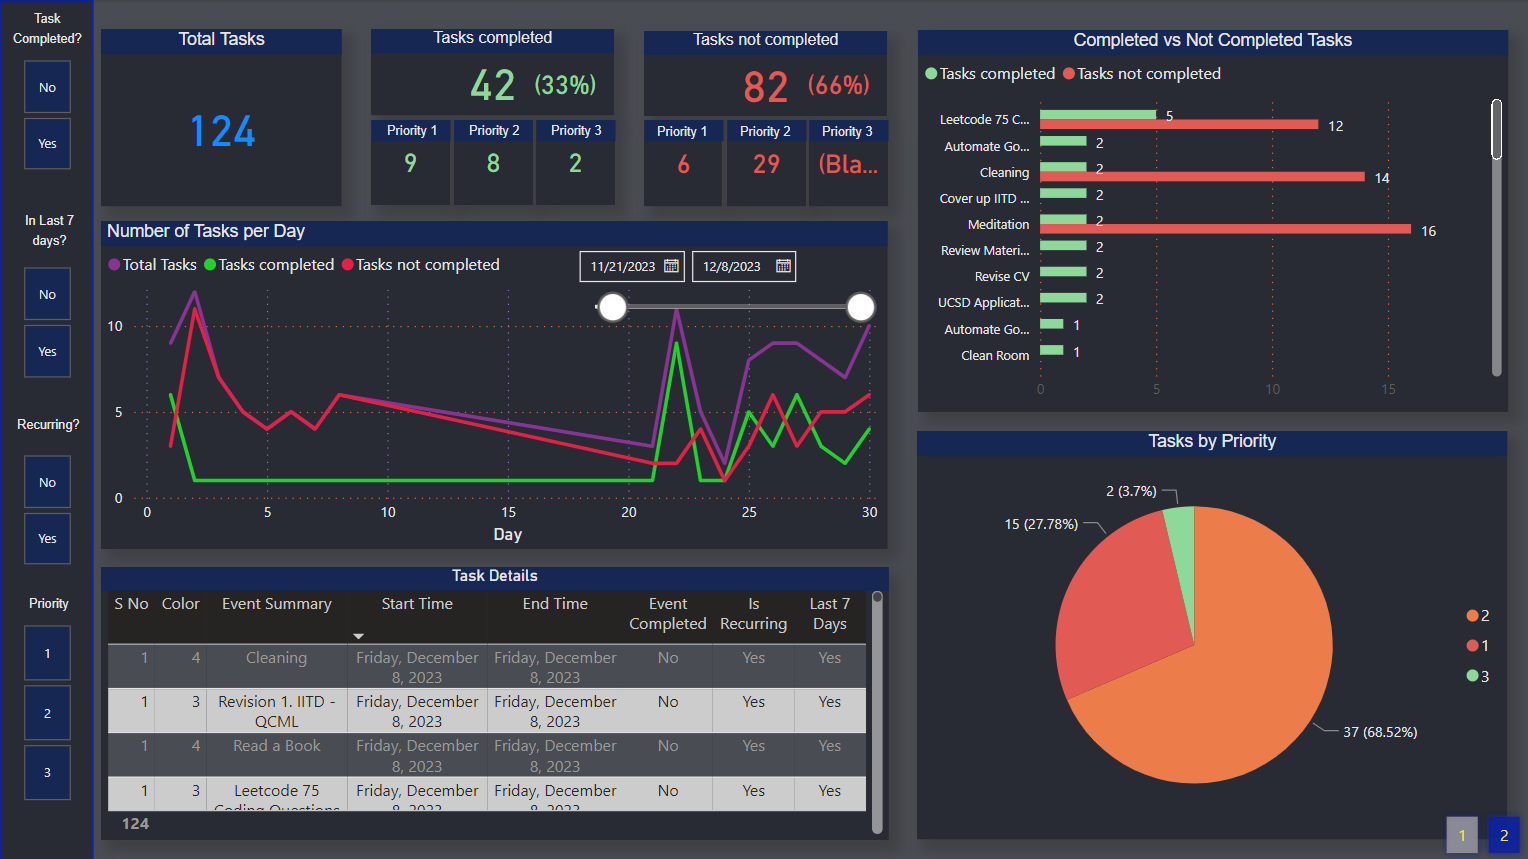

What the dashboard file says about the page in this screenshot:
{"tool":"powerbi","page":{"name":"v1-Tracker","canvas":[1280,720],"ordinal":0},"visuals":[{"type":"shape","box":[183.6,25.5,83.6,145.5],"z":0},{"type":"card","title":"Tasks completed","fields":{"Values":["CountNonNull(events.Event ID)"]},"box":[179.1,113.6,55.5,61.8],"z":1000},{"type":"shape","box":[87.4,25.5,83.6,145.5],"z":2000},{"type":"card","title":"Total Tasks","fields":{"Values":["CountNonNull(events.Event ID)"]},"box":[92.8,119.1,78.2,41.8],"z":3000},{"type":"card","title":"Tasks not completed","fields":{"Values":["CountNonNull(events.Event ID)"]},"box":[456.4,25.5,133.9,71.4],"z":4000},{"type":"card","fields":{"Values":["events.Events Completed (%)"]},"box":[214.5,122.7,60,54.5],"z":5000},{"type":"lineChart","title":"Number of Tasks per Day","fields":{"Category":["events.Date.Variation.Date Hierarchy.Day"],"Y":["CountNonNull(events.Event ID)","events.Count of Event Completed","events.Count of Event Not Completed"]},"box":[85.6,184.4,656.7,274.4],"z":6000},{"type":"clusteredBarChart","title":"Completed vs Not Completed Tasks","fields":{"Category":["events.Event Summary"],"Y":["events.Count of Event Completed","events.Count of Event Not Completed"]},"box":[767.5,25,492.5,318.8],"z":7000},{"type":"pieChart","title":"Tasks by Priority","fields":{"Y":["CountNonNull(events.Event ID)"],"Category":["events.Priority"]},"box":[767.1,359.8,493,341.4],"z":8000},{"type":"shape","box":[0,0,78.9,720],"z":9000},{"type":"slicer","title":"Recurring","fields":{"Values":["events.Is Recurring"]},"box":[0,378.8,78.8,95.3],"z":10000},{"type":"slicer","title":"Recurring","fields":{"Values":["events.Event Completed"]},"box":[0,48.8,78.8,95.3],"z":11000},{"type":"textbox","box":[10,338.8,71.2,28.8],"z":12000},{"type":"textbox","box":[1,0.1,78.8,57.4],"z":13000},{"type":"slicer","title":"Recurring","fields":{"Values":["events.Priority"]},"box":[0,520,78.8,150],"z":14000},{"type":"textbox","box":[20,488.8,61.2,31.2],"z":15000},{"type":"slicer","title":"Recurring","fields":{"Values":["events.Last 7 Days"]},"box":[0,221.2,78.8,96.2],"z":16000},{"type":"textbox","box":[6.2,168.8,72.5,56.2],"z":17000},{"type":"card","title":"Tasks not completed","fields":{"Values":["CountNonNull(events.Event ID)"]},"box":[456.4,119.1,65.5,50.9],"z":18000},{"type":"card","title":"Tasks not completed","fields":{"Values":["CountNonNull(events.Event ID)"]},"box":[525.5,119.1,65.5,50.9],"z":19000},{"type":"card","title":"Tasks not completed","fields":{"Values":["CountNonNull(events.Event ID)"]},"box":[310.9,119,65.5,50.9],"z":20000},{"type":"card","title":"Tasks not completed","fields":{"Values":["CountNonNull(events.Event ID)"]},"box":[380,119,65.5,50.9],"z":21000},{"type":"slicer","fields":{"Values":["events.Date"]},"box":[472.2,200,268.9,74.4],"z":22000},{"type":"tableEx","title":"Task Details","fields":{"Values":["events.Event ID","events.Color","events.Event Summary","events.Start Time","events.End Time Hierarchy.End Time","events.Event Completed","events.Is Recurring","events.Last 7 Days"]},"box":[85.1,473.5,657.9,227.9],"z":23000},{"type":"actionButton","box":[1239.6,677.4,35.5,39.9],"z":24000},{"type":"actionButton","box":[1204.1,677.4,35.5,39.9],"z":25000},{"type":"shape","box":[311.2,100.2,65.6,17.7],"z":26000},{"type":"shape","box":[380.4,100.2,65.6,17.7],"z":27000},{"type":"shape","box":[456.6,100.2,65.6,17.7],"z":28000},{"type":"shape","box":[525.8,100.2,65.6,17.7],"z":29000},{"type":"textbox","box":[455.5,93.9,65.6,35.5],"z":30000},{"type":"textbox","box":[312.1,93.9,65.6,35.5],"z":31000},{"type":"textbox","box":[381.3,93.9,65.6,35.5],"z":32000},{"type":"textbox","box":[524.7,93.9,65.6,35.5],"z":33000},{"type":"card","title":"Tasks Missed","fields":{"Values":["CountNonNull(events.Event ID)"]},"box":[605.5,23.6,134.5,71.8],"z":34000},{"type":"card","title":"Tasks not completed","fields":{"Values":["CountNonNull(events.Event ID)"]},"box":[605.5,119.1,65.5,50.9],"z":35000},{"type":"card","title":"Tasks not completed","fields":{"Values":["CountNonNull(events.Event ID)"]},"box":[674.5,119.1,65.5,50.9],"z":36000},{"type":"shape","box":[605.5,99.8,65.6,17.7],"z":37000},{"type":"shape","box":[674.6,99.8,65.6,17.7],"z":38000},{"type":"textbox","box":[606.4,93.5,65.6,35.5],"z":39000},{"type":"textbox","box":[675.5,93.5,65.6,35.5],"z":40000},{"type":"card","fields":{"Values":["events.Events Missed (%)"]},"box":[685.1,41,60.1,54.5],"z":41000},{"type":"card","fields":{"Values":["events.Events Not Completed (%)"]},"box":[535,45.7,60.1,54.5],"z":42000},{"type":"image","box":[91.9,54.5,79.1,74.5],"z":43000},{"type":"textbox","box":[85.5,29.1,88.2,35.5],"z":44000},{"type":"image","box":[193.6,60,63.6,60.9],"z":45000},{"type":"textbox","box":[181.8,20.9,85.5,53.6],"z":46000},{"type":"pivotTable","fields":{"Rows":["events.Priority"],"Values":["CountNonNull(events.Event ID)"],"Columns":["events.Event Completed"]},"box":[491.4,22.5,252.3,146.6],"z":46001}]}

Visuals, with their boxes in screenshot pixels (x1, y1, x2, y2), scaled from the page's 1280x720 canvas onto the 1528x859 screenshot:
shape: [219, 30, 319, 204]
"Tasks completed" card: [214, 136, 280, 209]
shape: [104, 30, 204, 204]
"Total Tasks" card: [111, 142, 204, 192]
"Tasks not completed" card: [545, 30, 705, 116]
card - events.Events Completed (%): [256, 146, 328, 211]
"Number of Tasks per Day" lineChart: [102, 220, 886, 547]
"Completed vs Not Completed Tasks" clusteredBarChart: [916, 30, 1504, 410]
"Tasks by Priority" pieChart: [916, 429, 1504, 837]
shape: [0, 0, 94, 858]
"Recurring" slicer: [0, 452, 94, 566]
"Recurring" slicer: [0, 58, 94, 172]
textbox: [12, 404, 97, 439]
textbox: [1, 0, 95, 69]
"Recurring" slicer: [0, 620, 94, 799]
textbox: [24, 583, 97, 620]
"Recurring" slicer: [0, 264, 94, 379]
textbox: [7, 201, 94, 268]
"Tasks not completed" card: [545, 142, 623, 203]
"Tasks not completed" card: [627, 142, 706, 203]
"Tasks not completed" card: [371, 142, 449, 203]
"Tasks not completed" card: [454, 142, 532, 203]
slicer - events.Date: [564, 239, 885, 327]
"Task Details" tableEx: [102, 565, 887, 837]
actionButton: [1480, 808, 1522, 856]
actionButton: [1437, 808, 1480, 856]
shape: [371, 120, 450, 141]
shape: [454, 120, 532, 141]
shape: [545, 120, 623, 141]
shape: [628, 120, 706, 141]
textbox: [544, 112, 622, 154]
textbox: [373, 112, 451, 154]
textbox: [455, 112, 533, 154]
textbox: [626, 112, 705, 154]
"Tasks Missed" card: [723, 28, 883, 114]
"Tasks not completed" card: [723, 142, 801, 203]
"Tasks not completed" card: [805, 142, 883, 203]
shape: [723, 119, 801, 140]
shape: [805, 119, 884, 140]
textbox: [724, 112, 802, 154]
textbox: [806, 112, 885, 154]
card - events.Events Missed (%): [818, 49, 890, 114]
card - events.Events Not Completed (%): [639, 55, 710, 120]
image: [110, 65, 204, 154]
textbox: [102, 35, 207, 77]
image: [231, 72, 307, 144]
textbox: [217, 25, 319, 89]
pivotTable - events.Priority x CountNonNull(events.Event ID): [587, 27, 888, 202]
